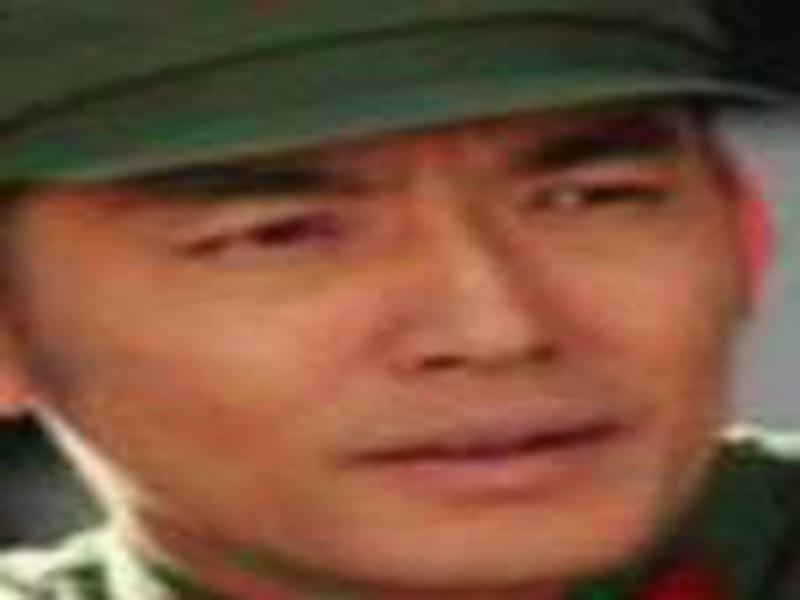without_mask: (17, 99, 734, 578)
